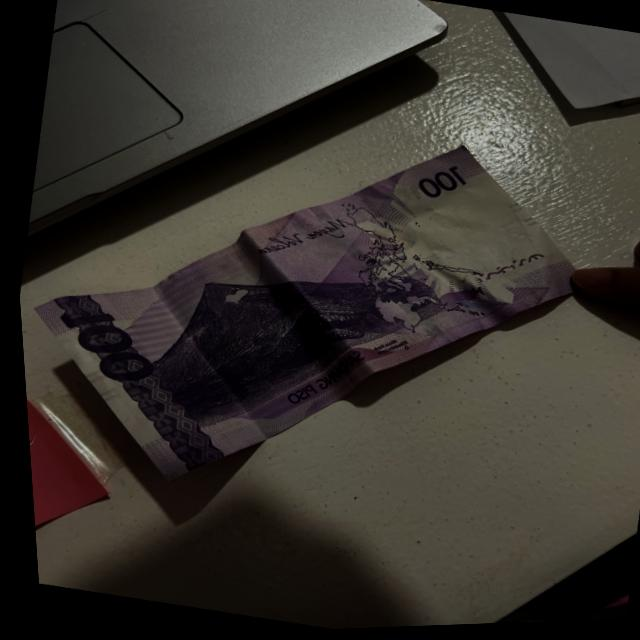100_whale: (256, 287, 383, 394)
100_whale_watermark: (426, 281, 484, 317)
value_watermark: (496, 223, 522, 247)
